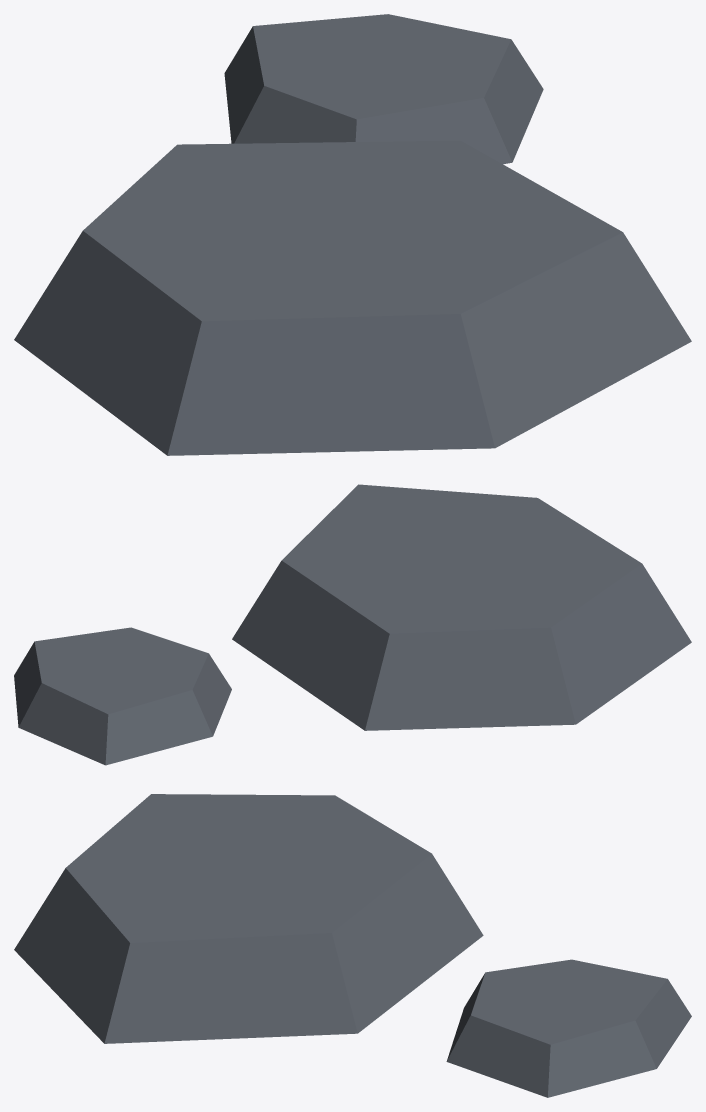
The model's file is Environment_Objects_Stone.fbx.
The picture shows the model from 3 angles, top to bottom: view 1: azimuth 30°, elevation 25°; view 2: azimuth 150°, elevation 25°; view 3: azimuth 270°, elevation 25°; orthographic projection. The views are drawn at different scales.
Visible parts, largest first — view 1: Environment_Objects_Stone; view 2: Environment_Objects_Stone; view 3: Environment_Objects_Stone.
Part boxes in pixels (box(x1,y1,x2,y2)): Environment_Objects_Stone: box(14, 14, 691, 455); Environment_Objects_Stone: box(14, 484, 691, 765); Environment_Objects_Stone: box(14, 794, 691, 1097).
Size of the model in its own units: 51.48 by 8.18 by 61.27.
